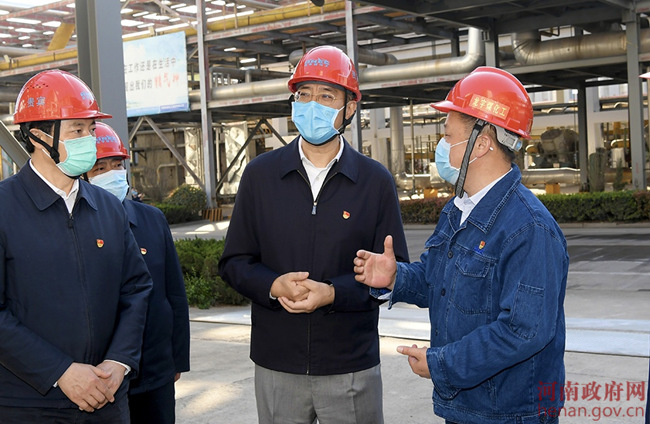helmet: (426, 63, 531, 186), (272, 39, 374, 149), (11, 67, 100, 179)
